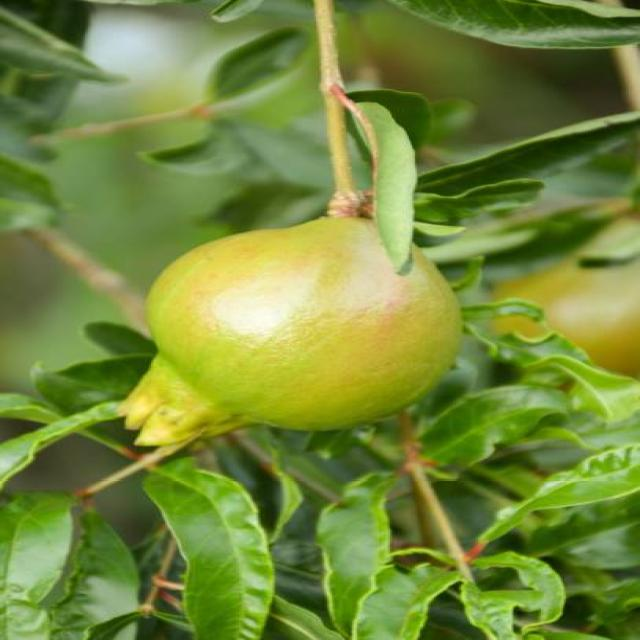Unripe: (119, 213, 458, 449)
